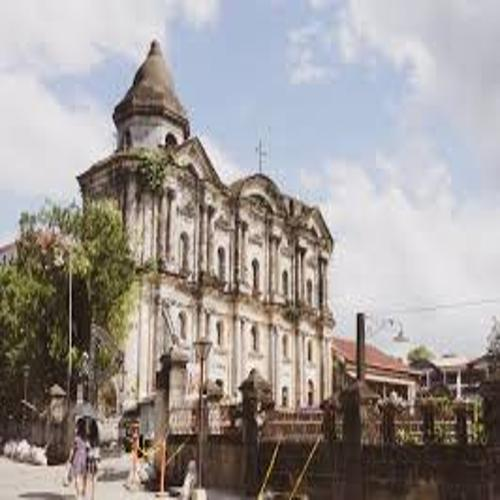Taal Basilica Church: (65, 33, 340, 433)
